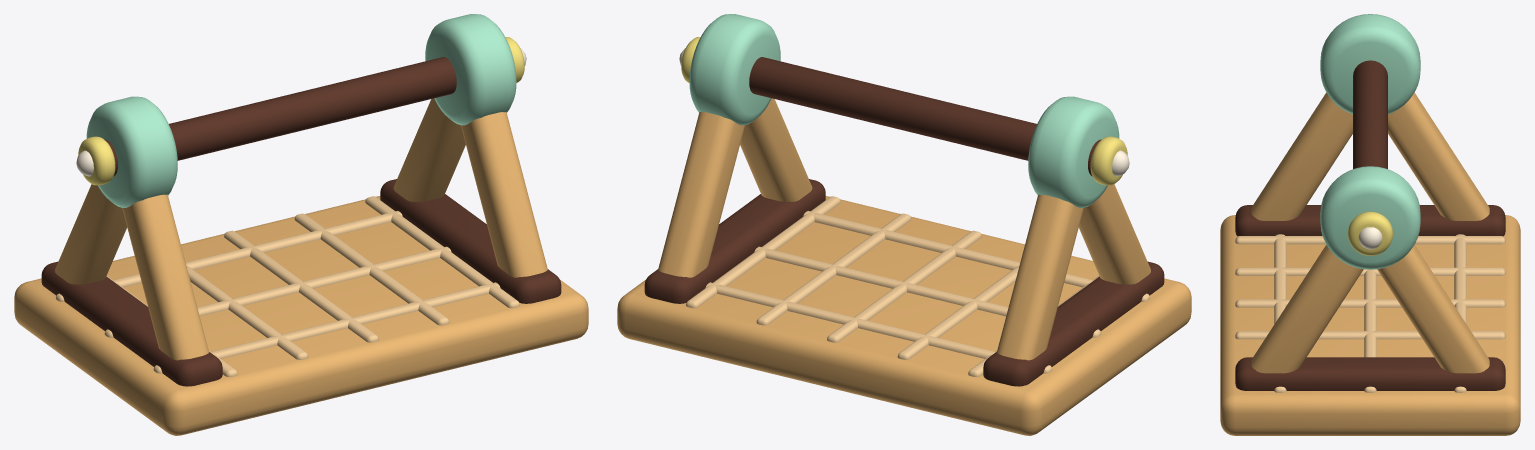
File: catapult_base.glb
The picture shows the model from 3 angles, left to right: view 1: azimuth 30°, elevation 25°; view 2: azimuth 150°, elevation 25°; view 3: azimuth 270°, elevation 25°; orthographic projection. The views are drawn at different scales.
Visible parts, largest first — view 1: catapult_base; view 2: catapult_base; view 3: catapult_base.
Boxes of the visible parts, bbox=[...] form: catapult_base: bbox=[14, 14, 588, 435]; catapult_base: bbox=[617, 14, 1191, 435]; catapult_base: bbox=[1220, 14, 1520, 435].
Size of the model in its own units: 1.9 by 1.1 by 1.2.
